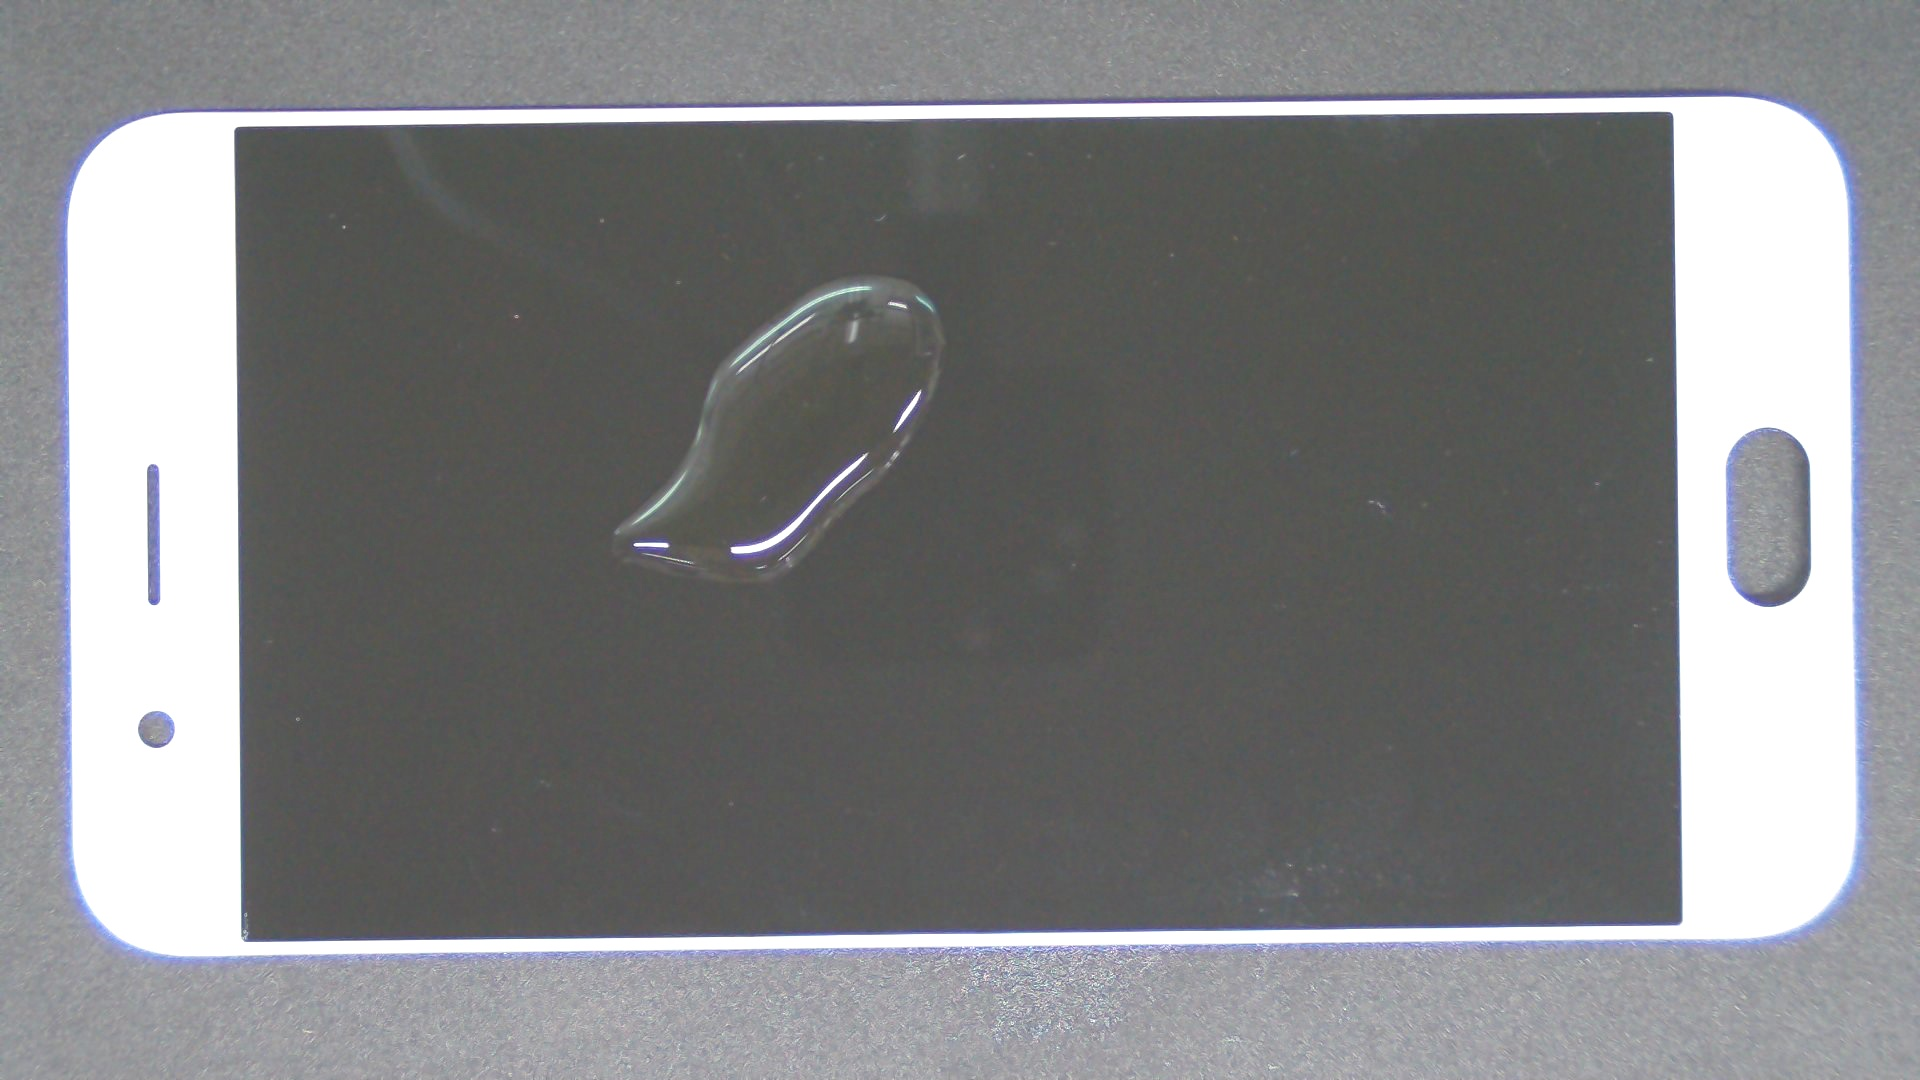oil: (433, 137, 1298, 411)
